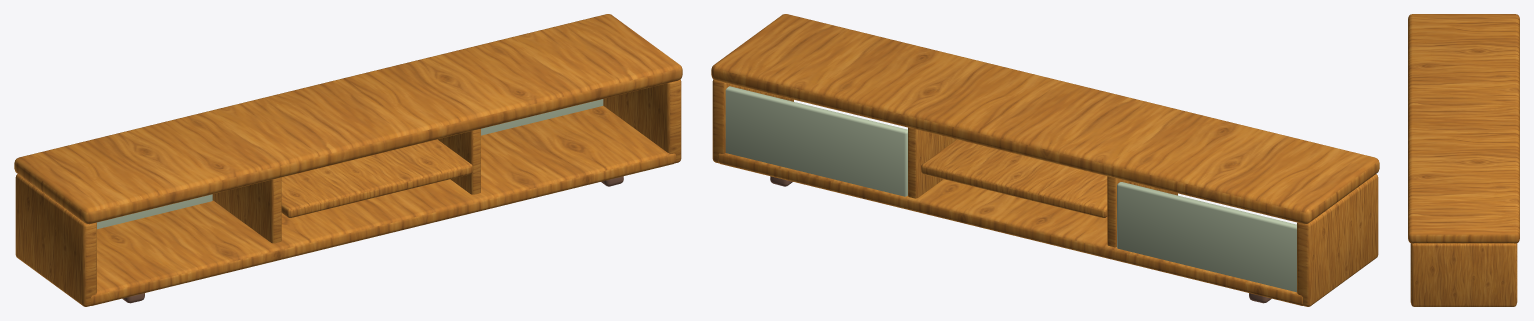
Rendered from open-media-bench.glb.
3 renders of one model, left to right at view 1: azimuth 30°, elevation 25°; view 2: azimuth 150°, elevation 25°; view 3: azimuth 270°, elevation 25°, orthographic. The views are drawn at different scales.
Parts seen in each view (by area): view 1: open-media-bench; view 2: open-media-bench; view 3: open-media-bench.
Boxes of the visible parts, left/top/right/bottom form: open-media-bench: left=14, top=14, right=682, bottom=306; open-media-bench: left=711, top=14, right=1379, bottom=306; open-media-bench: left=1408, top=14, right=1519, bottom=306.
Bounding box in the file's own units: 2.1 × 0.38 × 0.45.
3 materials, 1 textured.
